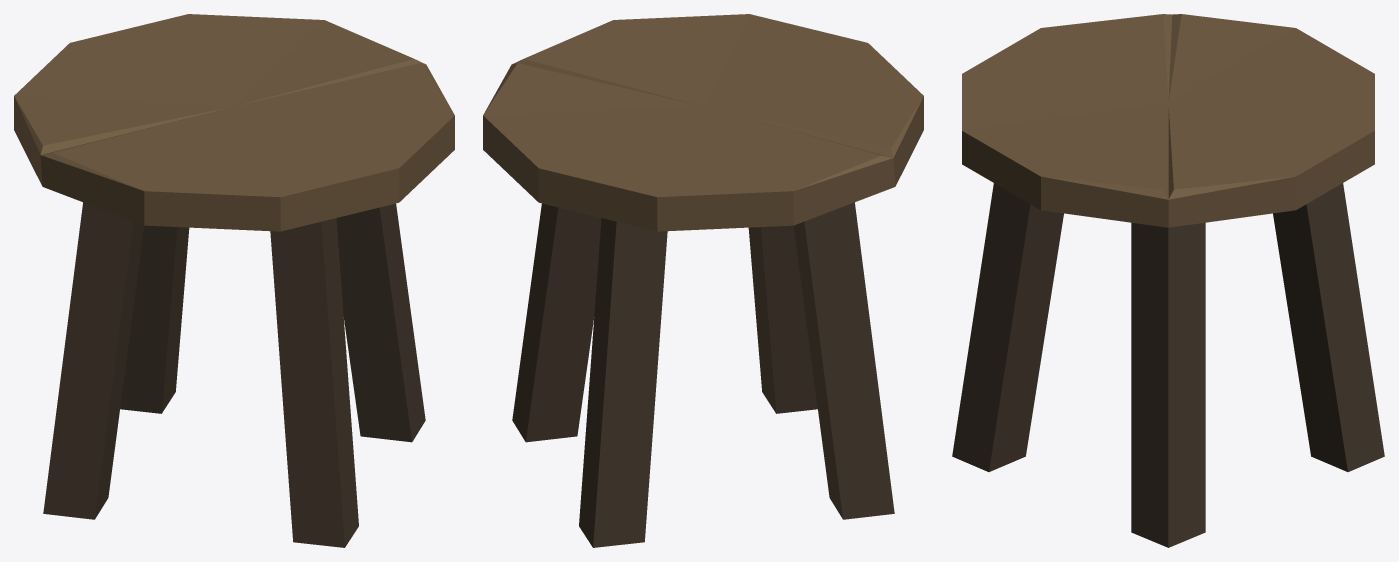
File: Stool_1A.fbx
3 renders of one model, left to right at view 1: azimuth 30°, elevation 25°; view 2: azimuth 150°, elevation 25°; view 3: azimuth 270°, elevation 25°, orthographic. The views are drawn at different scales.
Visible parts, largest first — view 1: pCube2447; view 2: pCube2447; view 3: pCube2447.
Boxes of the visible parts, left/top/right/bottom form: pCube2447: left=14, top=14, right=454, bottom=547; pCube2447: left=483, top=14, right=923, bottom=547; pCube2447: left=952, top=14, right=1384, bottom=547.
Size of the model in its own units: 70 by 63 by 69.74.
